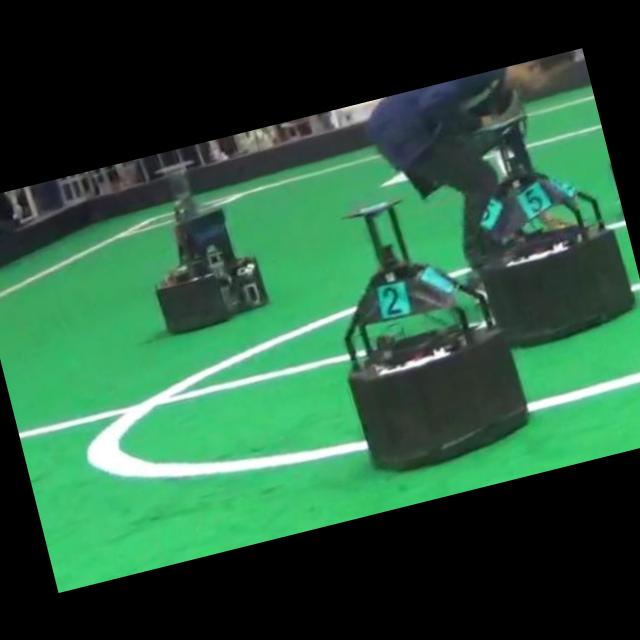robot: (344, 201, 528, 470), (480, 114, 635, 345), (156, 162, 268, 333)
